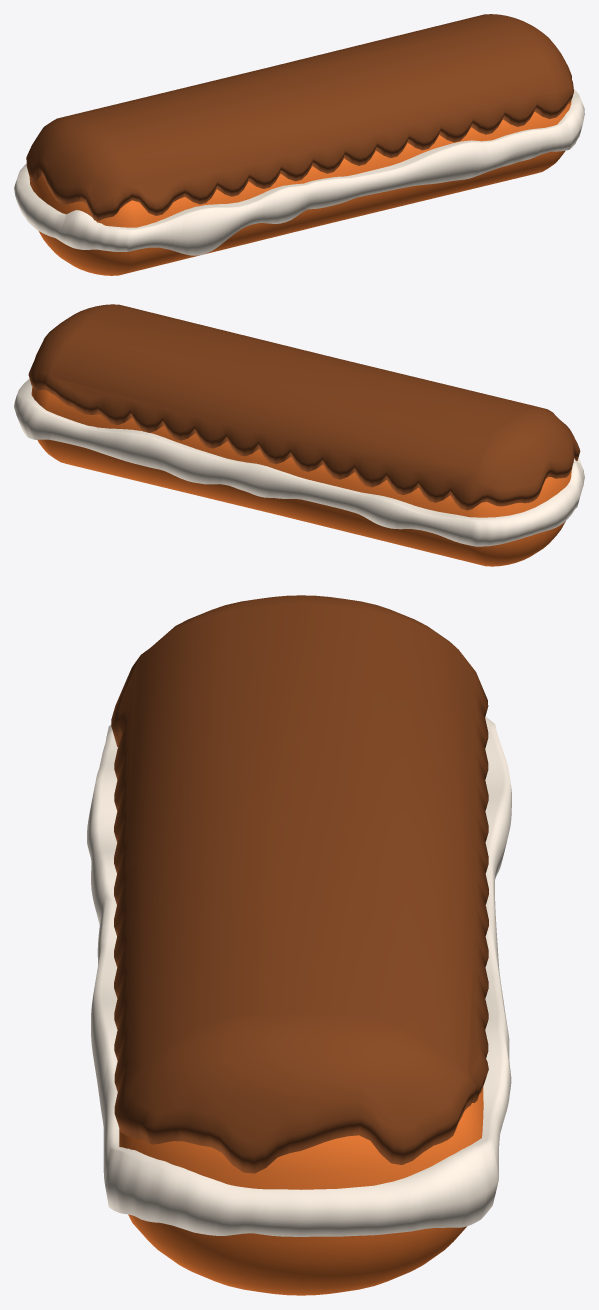
Rendered from eclair.fbx.
3 renders of one model, top to bottom at view 1: azimuth 30°, elevation 25°; view 2: azimuth 150°, elevation 25°; view 3: azimuth 270°, elevation 25°, orthographic. The views are drawn at different scales.
Visible parts, largest first — view 1: eclair.001; view 2: eclair.001; view 3: eclair.001.
Boxes of the visible parts, x1=… form: eclair.001: x1=14, y1=14, x2=584, y2=275; eclair.001: x1=14, y1=304, x2=584, y2=566; eclair.001: x1=87, y1=595, x2=511, y2=1295.
Bounding box in the file's own units: 326 × 81.54 × 113.
